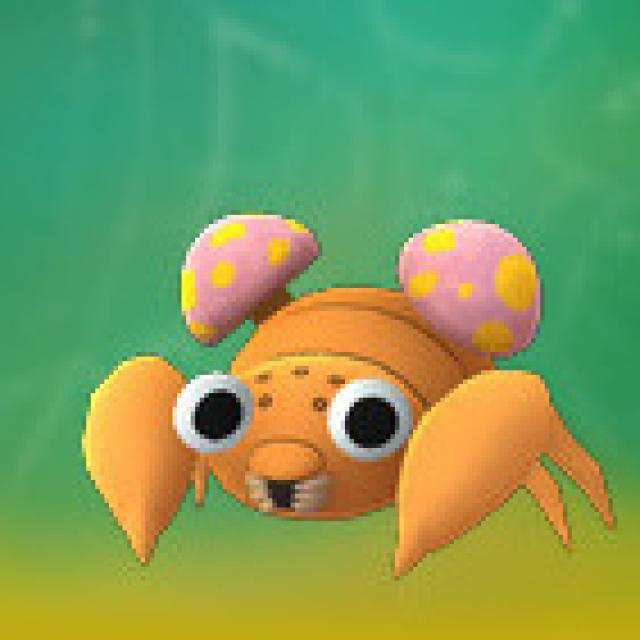Paras: (114, 190, 578, 547)
